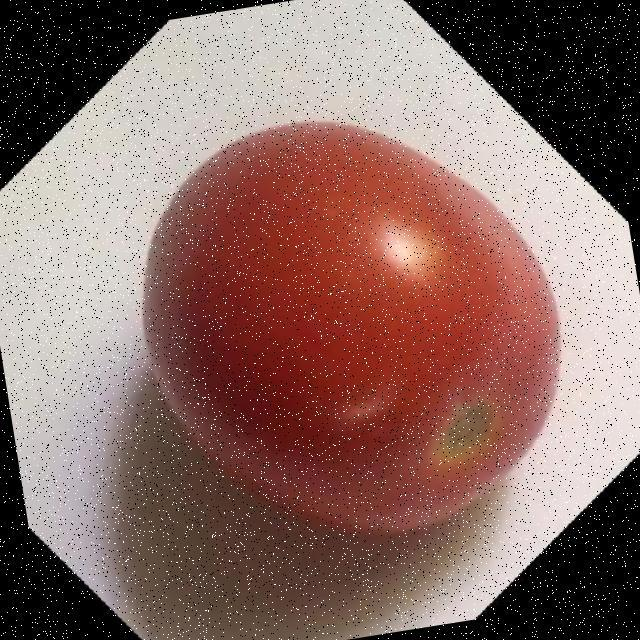tomato: (133, 98, 590, 538)
